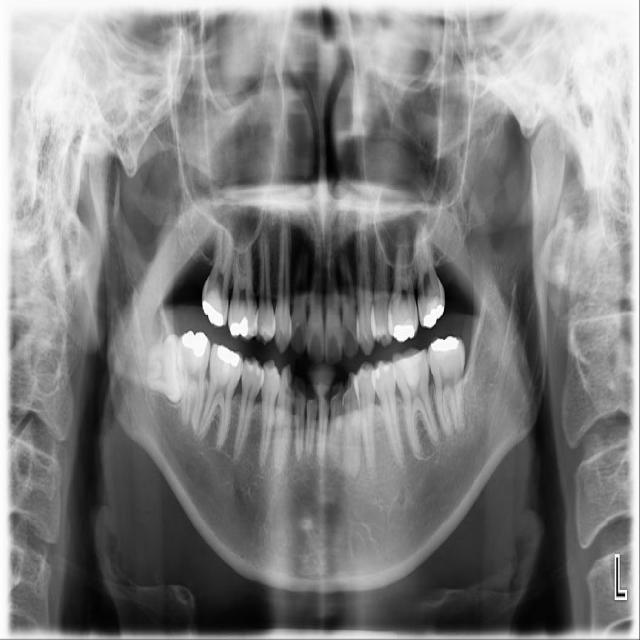52: (387, 342, 440, 400), (198, 340, 251, 393), (172, 328, 215, 378), (426, 334, 467, 379), (200, 274, 230, 329), (387, 293, 419, 343), (418, 275, 444, 329), (228, 296, 258, 341), (369, 358, 399, 401), (241, 355, 264, 397)
73: (530, 524, 532, 530)
BioHorizons Implant: (412, 216, 447, 330)
Blue Sky Bio Implant: (426, 335, 465, 438)
Caries: (200, 211, 237, 330)
Implant: (174, 329, 211, 430)
Keystone Dental Implant: (143, 333, 185, 404)
